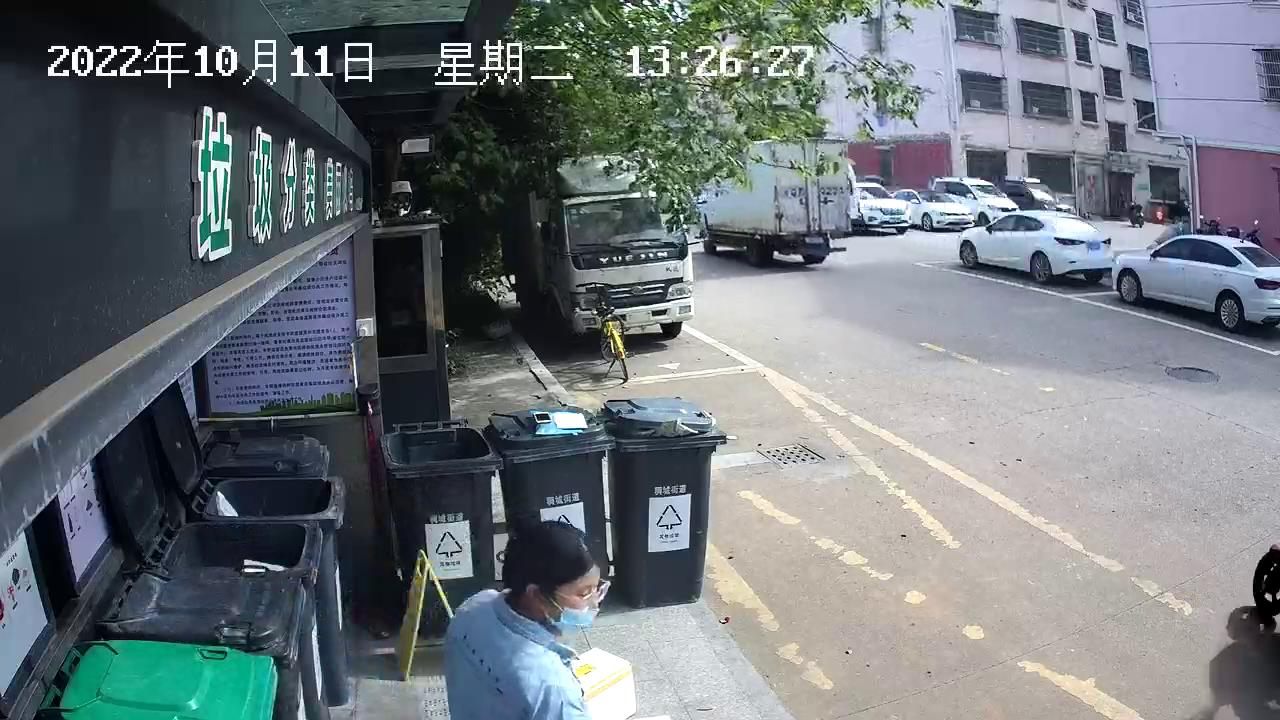worker: (433, 515, 613, 720)
zhizhipin: (559, 643, 639, 720)
